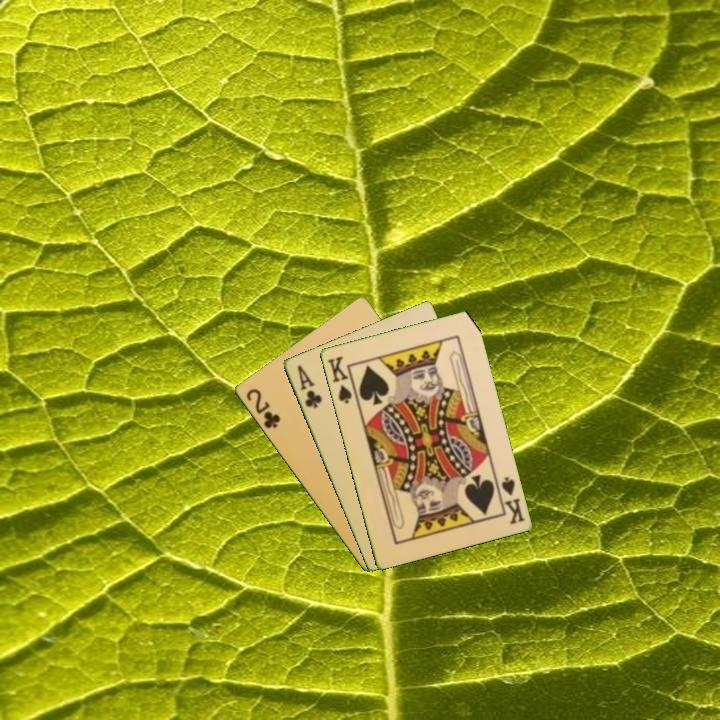2c: (242, 385, 283, 432)
Ac: (293, 361, 325, 411)
Ks: (324, 352, 359, 406), (492, 473, 527, 527)
